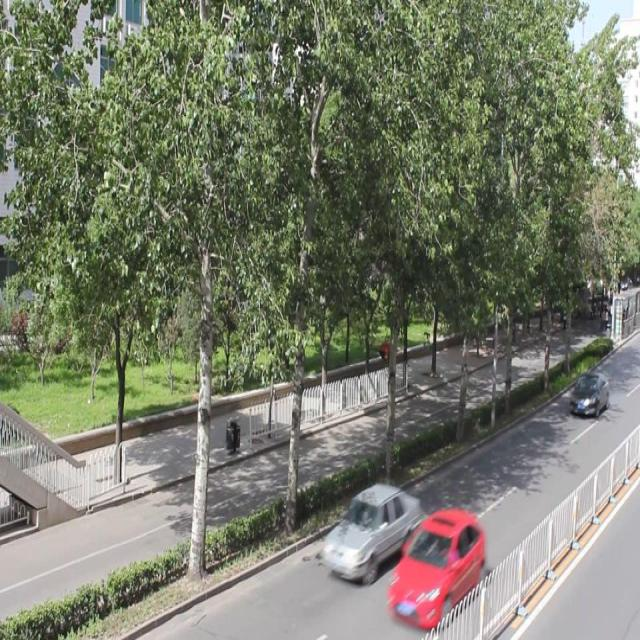car: (386, 507, 483, 628), (326, 482, 420, 580), (569, 368, 607, 414)
